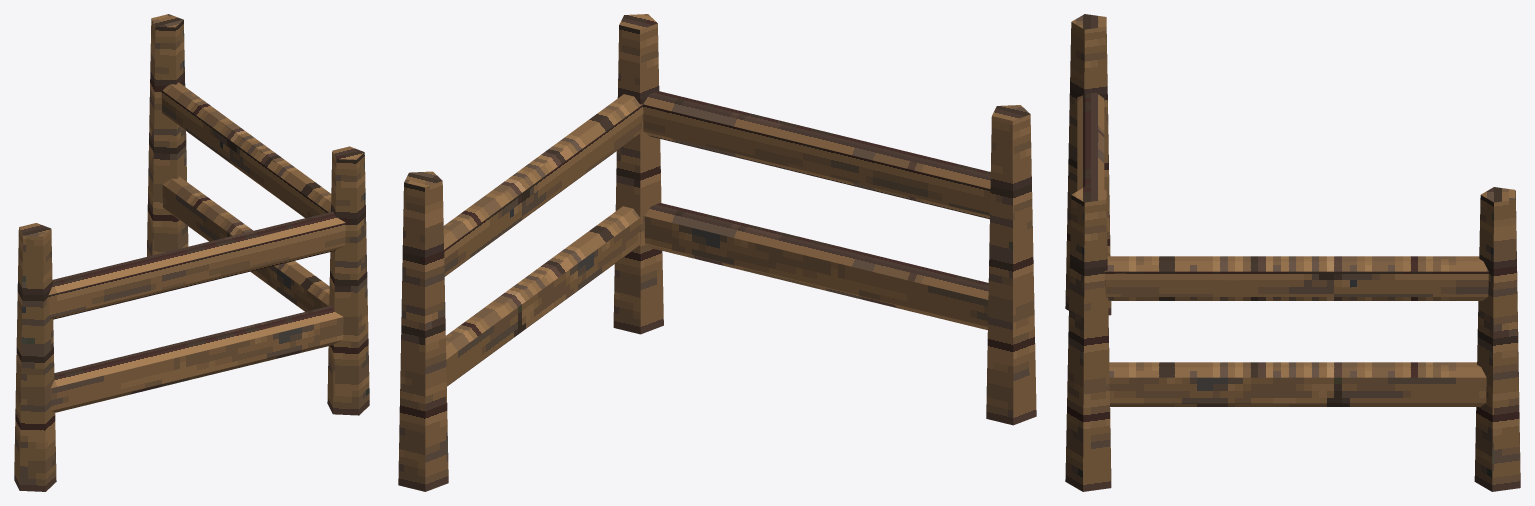
File: enfeite_cerca_canto.fbx
The picture shows the model from 3 angles, left to right: view 1: azimuth 30°, elevation 25°; view 2: azimuth 150°, elevation 25°; view 3: azimuth 270°, elevation 25°; orthographic projection. The views are drawn at different scales.
Visible parts, largest first — view 1: pedreira_enfeite_cerca_canto; view 2: pedreira_enfeite_cerca_canto; view 3: pedreira_enfeite_cerca_canto.
Part boxes in pixels (x1=…): pedreira_enfeite_cerca_canto: x1=14, y1=14, x2=369, y2=491; pedreira_enfeite_cerca_canto: x1=398, y1=14, x2=1036, y2=491; pedreira_enfeite_cerca_canto: x1=1065, y1=14, x2=1520, y2=491.
Bounding box in the file's own units: 93.89 × 65 × 93.41.
Materials: 1 (1 with a texture image).
